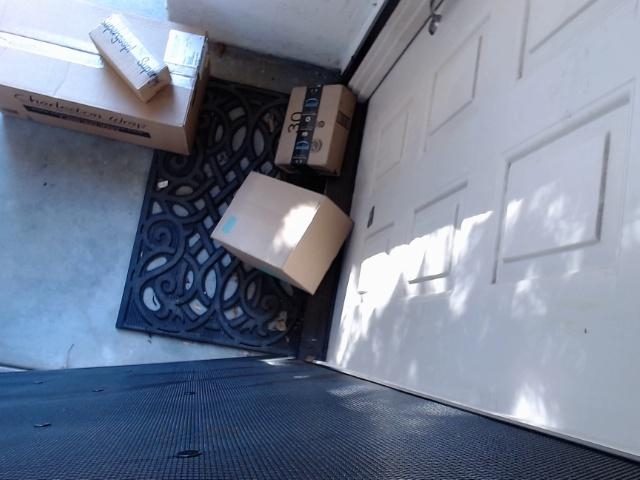box: (0, 0, 221, 146), (200, 162, 377, 305), (239, 69, 399, 178), (74, 1, 190, 105)
